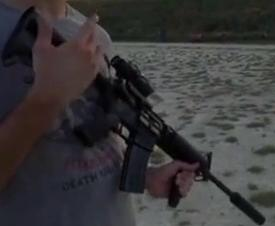gun: (1, 1, 275, 226)
